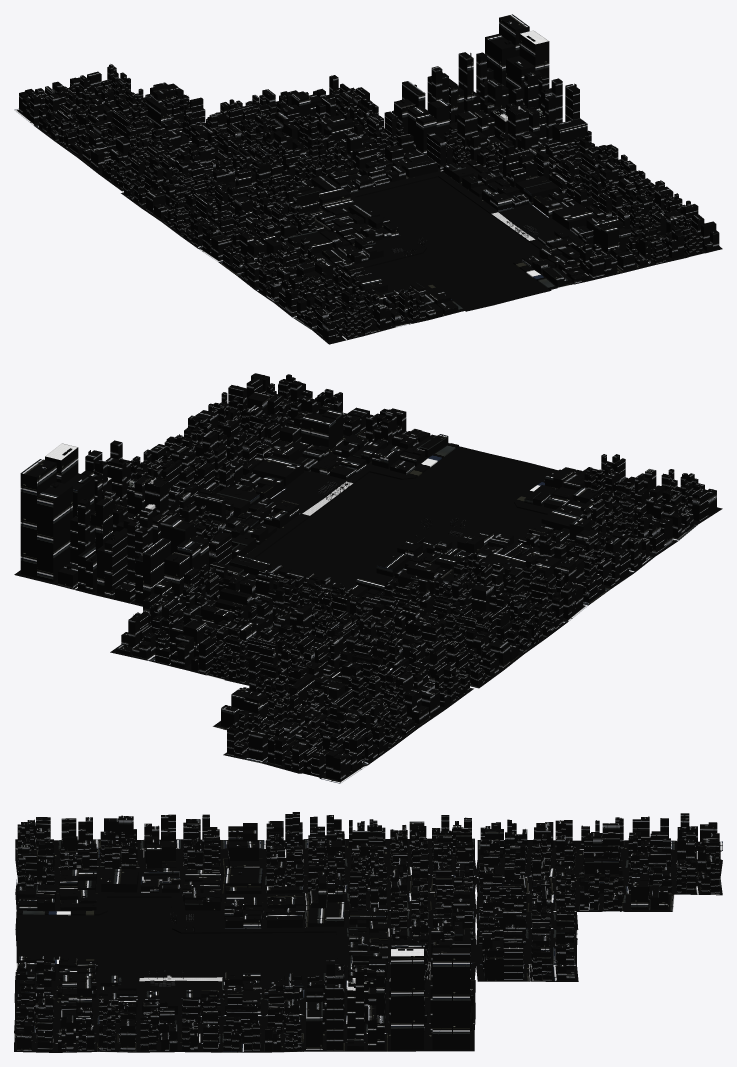
File: ciudad_09.DAE
The picture shows the model from 3 angles, top to bottom: view 1: azimuth 30°, elevation 25°; view 2: azimuth 150°, elevation 25°; view 3: azimuth 270°, elevation 25°; orthographic projection. The views are drawn at different scales.
Parts seen in each view (by area): view 1: Object01, Object08, Plane01, Object07, Object02, Object05, Object06, Object03, edificios_camara06, Object04; view 2: Object01, Object08, Plane01, Object07, Object02, Object05, Object06, Object03, edificios_camara06; view 3: Object01, Object08, Plane01, Object07, Object02, Object05, Object06, Object03, edificios_camara06, Object04.
Boxes of the visible parts, <box> form: Object01: <box>121,111,722,344</box>; Object08: <box>14,64,378,191</box>; Plane01: <box>288,153,604,319</box>; Object07: <box>356,177,550,311</box>; Object02: <box>384,14,587,146</box>; Object05: <box>350,171,565,311</box>; Object06: <box>408,79,549,156</box>; Object03: <box>426,128,514,173</box>; edificios_camara06: <box>490,104,546,152</box>; Object04: <box>457,110,499,161</box>; Object01: <box>131,373,722,688</box>; Object08: <box>110,590,473,783</box>; Plane01: <box>214,428,601,599</box>; Object07: <box>255,446,557,584</box>; Object02: <box>14,440,189,606</box>; Object05: <box>246,443,560,586</box>; Object06: <box>90,479,208,575</box>; Object03: <box>165,503,231,569</box>; edificios_camara06: <box>115,476,168,522</box>; Object01: <box>14,812,476,1052</box>; Object08: <box>476,813,722,981</box>; Plane01: <box>15,868,389,1016</box>; Object07: <box>15,897,337,977</box>; Object02: <box>304,927,475,1051</box>; Object05: <box>16,893,347,998</box>; Object06: <box>304,940,429,1032</box>; Object03: <box>304,953,387,1015</box>; edificios_camara06: <box>324,964,376,1032</box>; Object04: <box>346,958,387,1015</box>.
Bounding box in the file's own units: 1470 × 2054 × 314.
